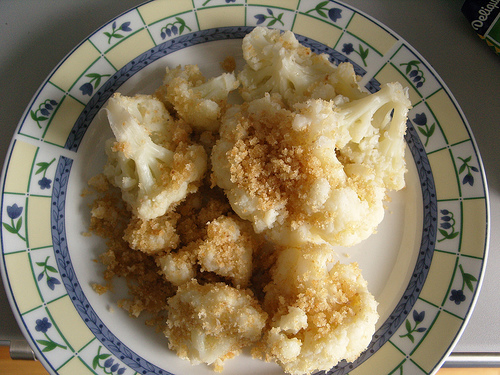cauliflower: (80, 27, 412, 374)
